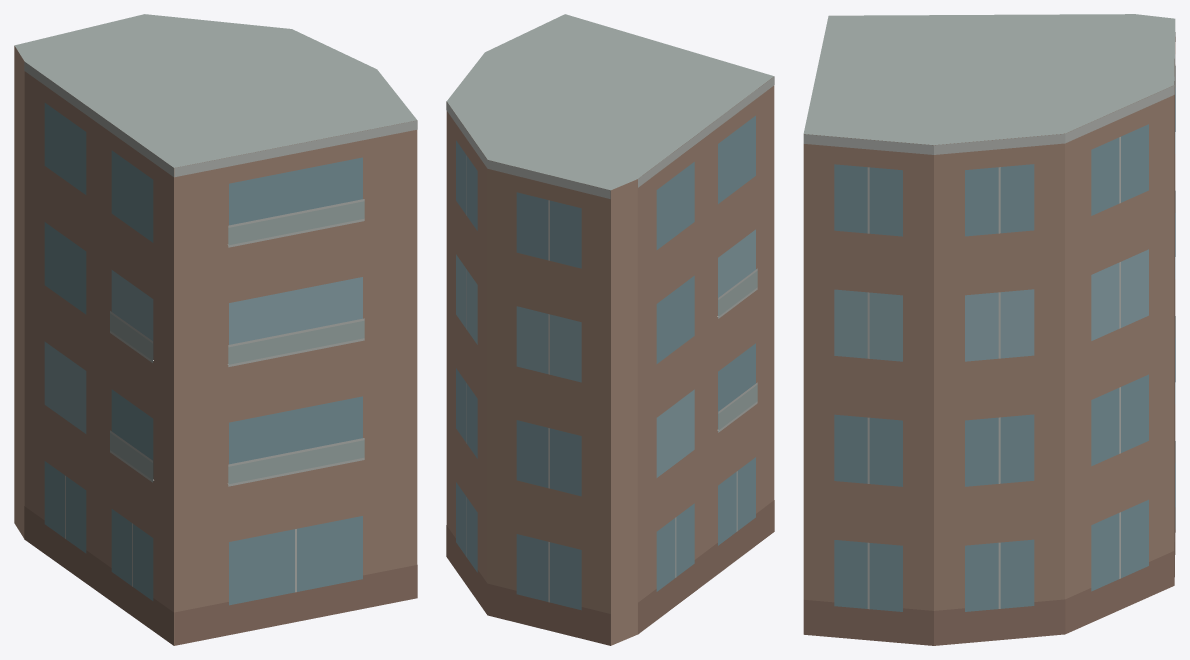
Rendered from survey-upis-33046771.glb.
The picture shows the model from 3 angles, left to right: view 1: azimuth 30°, elevation 25°; view 2: azimuth 150°, elevation 25°; view 3: azimuth 270°, elevation 25°; orthographic projection. The views are drawn at different scales.
Visible parts, largest first — view 1: survey-upis-33046771.tmp; view 2: survey-upis-33046771.tmp; view 3: survey-upis-33046771.tmp.
Part boxes in pixels (x1,y1,x2,y2): survey-upis-33046771.tmp: [14, 14, 417, 645]; survey-upis-33046771.tmp: [446, 14, 774, 645]; survey-upis-33046771.tmp: [803, 14, 1175, 645].
Bounding box in the file's own units: 6.98 × 12.4 × 8.36.
